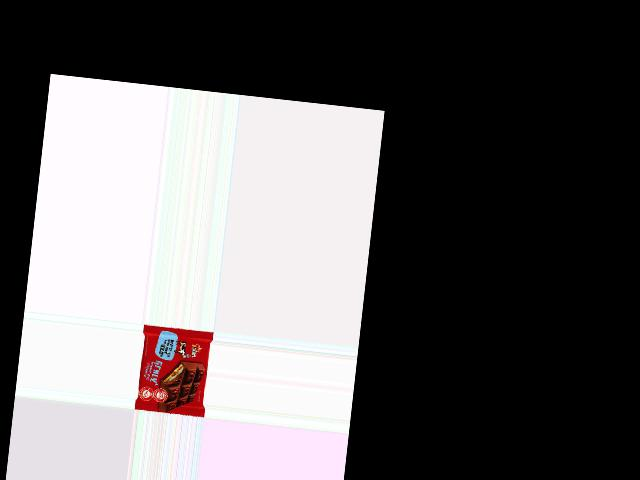chocolate: (133, 327, 212, 416)
